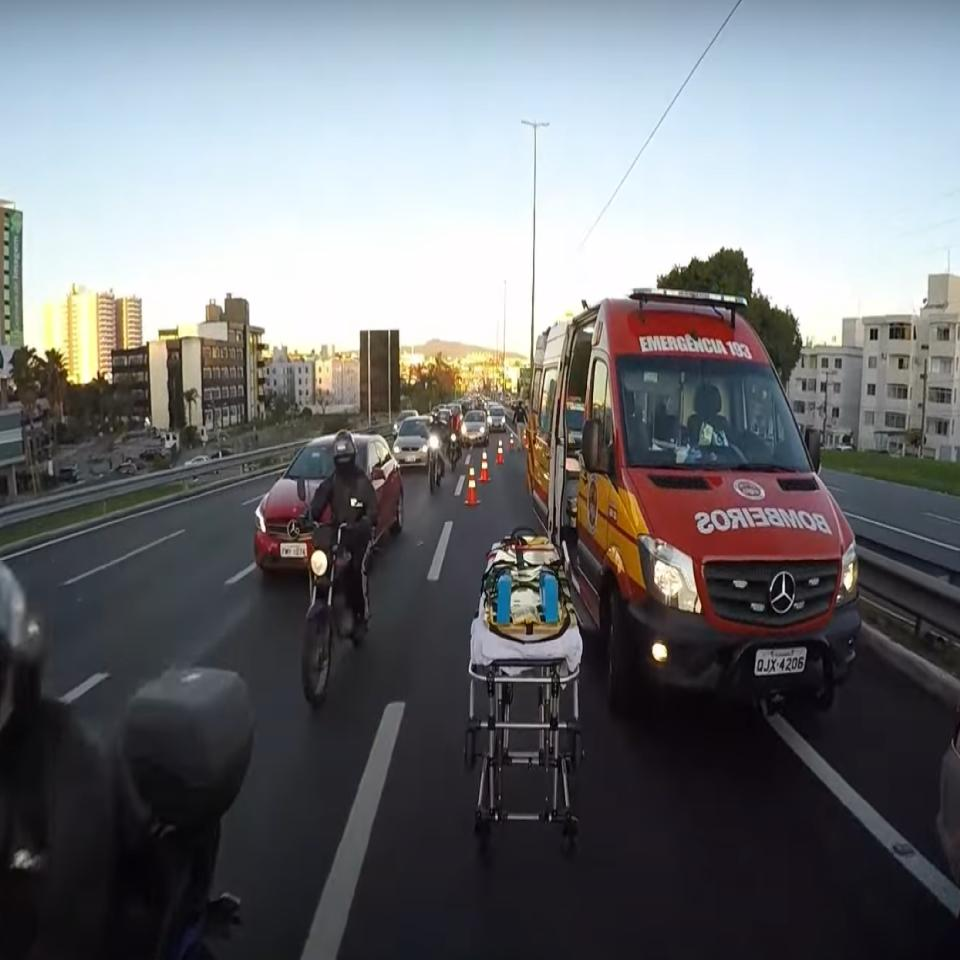viatura: (528, 288, 862, 715)
